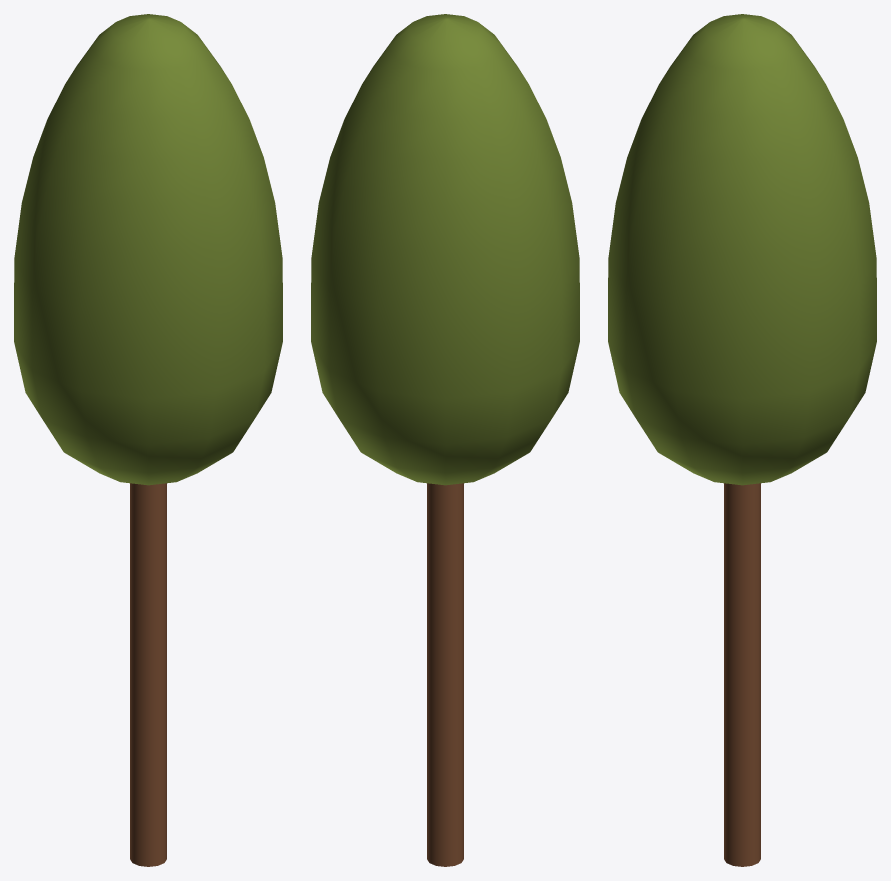
File: California_Redwood_Analytical_0.obj
3 renders of one model, left to right at view 1: azimuth 30°, elevation 25°; view 2: azimuth 150°, elevation 25°; view 3: azimuth 270°, elevation 25°, orthographic.
Visible parts, largest first — view 1: AnalyticalCrown, AnalyticalTrunk; view 2: AnalyticalCrown, AnalyticalTrunk; view 3: AnalyticalCrown, AnalyticalTrunk.
Part boxes in pixels (box(x1,y1,x2,y2)): AnalyticalCrown: box(14, 14, 282, 485); AnalyticalTrunk: box(130, 483, 166, 866); AnalyticalCrown: box(311, 14, 579, 485); AnalyticalTrunk: box(427, 483, 463, 866); AnalyticalCrown: box(608, 14, 876, 485); AnalyticalTrunk: box(724, 483, 760, 866).
Bounding box in the file's own units: 18.84 × 65 × 18.84.
